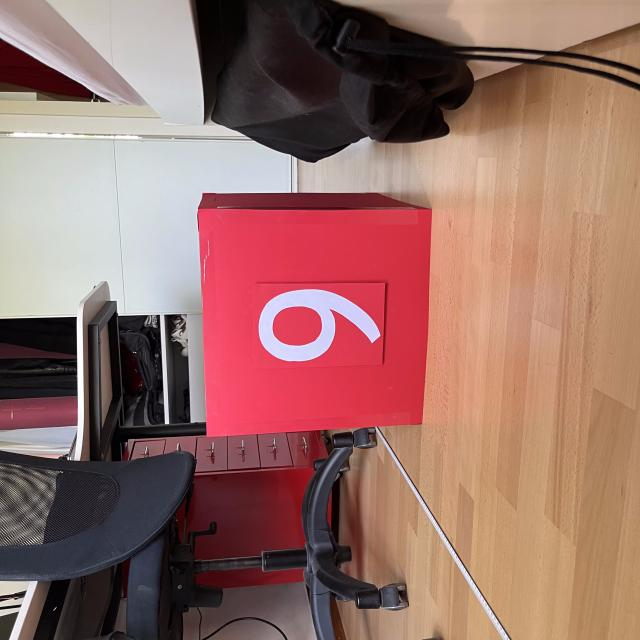box: (192, 187, 436, 437)
